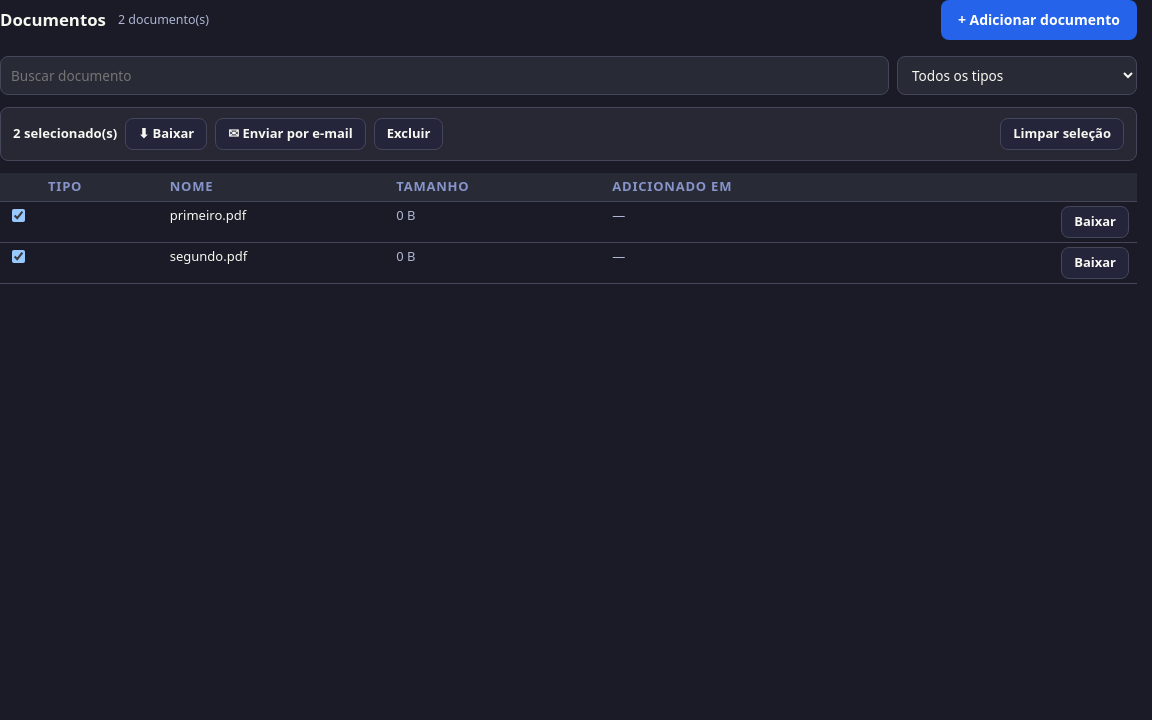
Test: exclusão parcial informa arquivo pendente e não limpa seleção
Click the button "Excluir" at (409, 134), box [374,118,443,150]
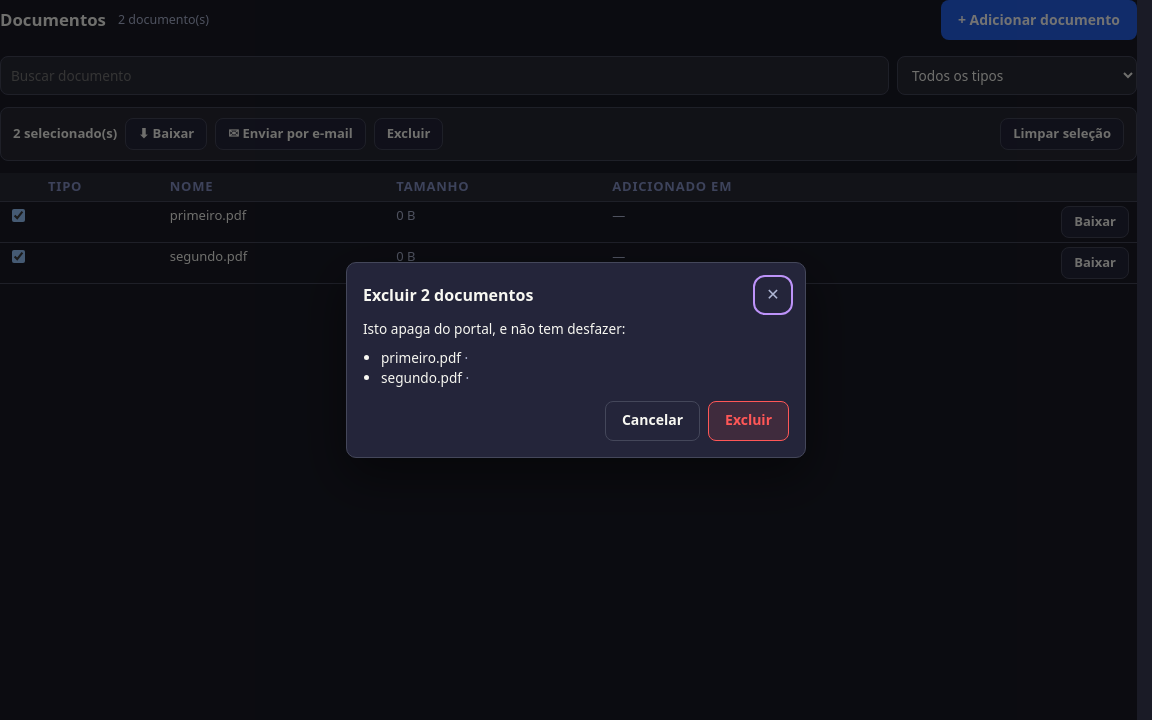
Click the button "Excluir" at (748, 421), box [708,401,789,441]
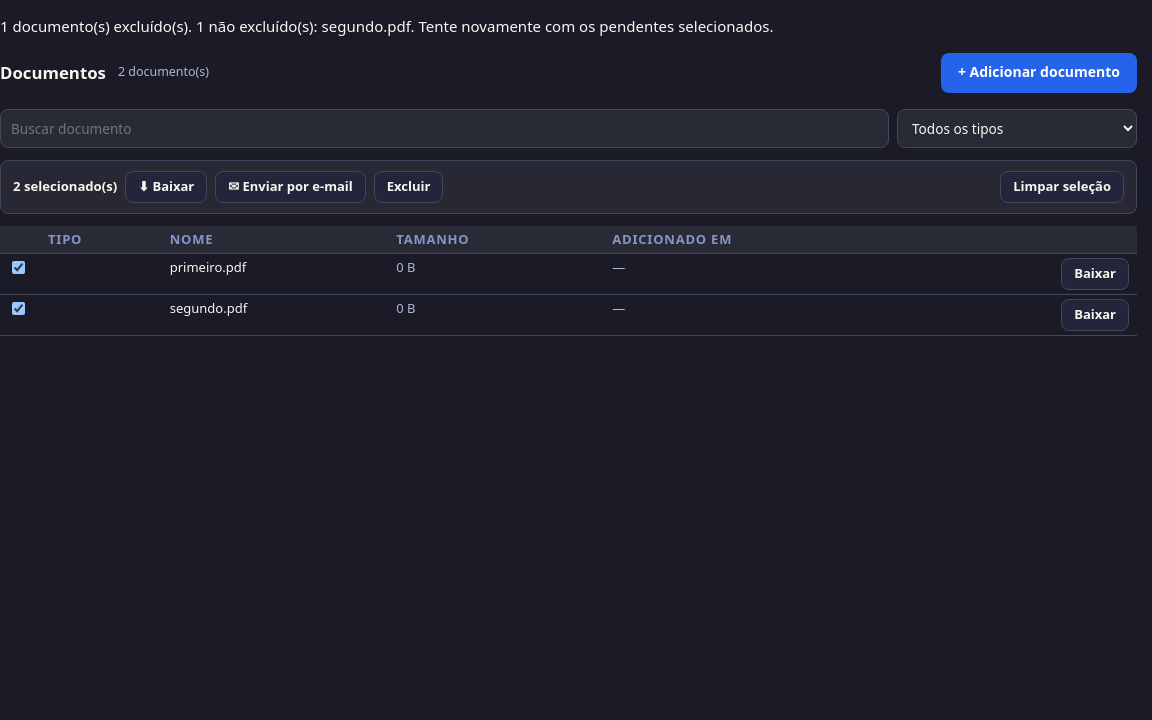
expect the message shows "1 não excluído(s): segundo.pdf": met, box [0,16,774,36]
